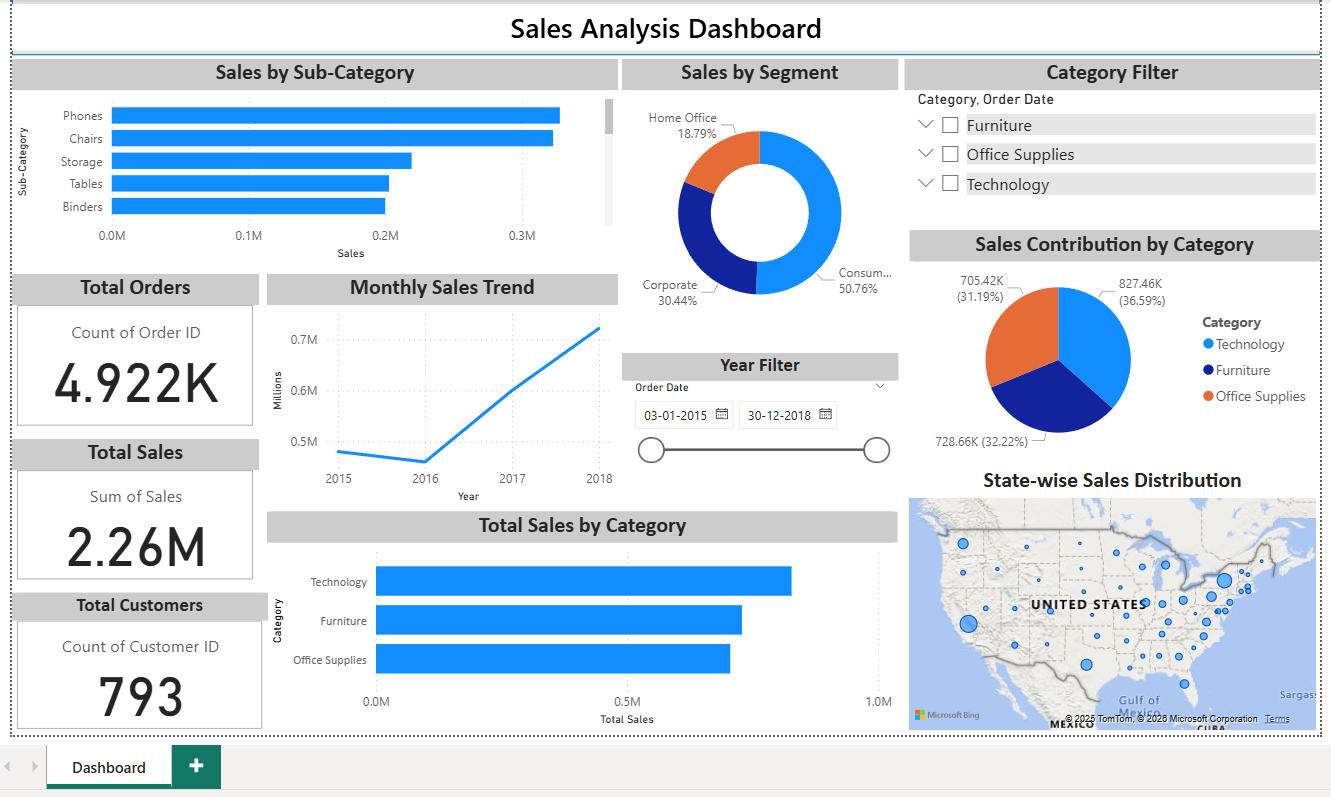

What the dashboard file says about the page in this screenshot:
{"tool":"powerbi","page":{"name":"Dashboard","canvas":[1280,720],"ordinal":0},"visuals":[{"type":"cardVisual","title":"Total Sales","fields":{"Data":["Sum(train.Sales)"]},"box":[0,430,241.4,142.9],"z":0},{"type":"cardVisual","title":"Total Orders","fields":{"Data":["Count(train.Order ID)"]},"box":[0,268.6,241.4,154.3],"z":1000},{"type":"clusteredBarChart","title":"Total Sales by Category","fields":{"Category":["train.Category"],"Y":["Sum(train.Sales)"]},"box":[250,501.4,617.1,214.3],"z":2000},{"type":"lineChart","title":"Monthly Sales Trend","fields":{"Category":["train.Order Date.Variation.Date Hierarchy.Year","train.Order Date.Variation.Date Hierarchy.Quarter","train.Order Date.Variation.Date Hierarchy.Month","train.Order Date.Variation.Date Hierarchy.Day"],"Y":["Sum(train.Sales)"]},"box":[250,268.6,342.9,228.6],"z":3000},{"type":"clusteredBarChart","title":"Sales by Sub-Category","fields":{"Category":["train.Sub-Category"],"Y":["Sum(train.Sales)"]},"box":[0,58.6,592.9,201.4],"z":4000},{"type":"map","title":"State-wise Sales Distribution","fields":{"Category":["train.State"],"Size":["Sum(train.Sales)"]},"box":[872.9,457.1,407.1,262.9],"z":5000},{"type":"pieChart","title":"Sales Contribution by Category","fields":{"Category":["train.Category"],"Y":["Sum(train.Sales)"]},"box":[878.6,225.7,401.4,228.6],"z":6000},{"type":"donutChart","title":"Sales by Segment","fields":{"Category":["train.Segment"],"Y":["Sum(train.Sales)"]},"box":[597.1,58.6,270,275.7],"z":7000},{"type":"slicer","title":"Category Filter","fields":{"Values":["train.Category","train.Order Date"]},"box":[872.9,58.6,407.1,161.4],"z":8000},{"type":"slicer","title":"Year Filter","fields":{"Values":["train.Order Date"]},"box":[597.1,345.7,270,137.1],"z":9000},{"type":"cardVisual","title":"Total Customers","fields":{"Data":["Count(train.Customer ID)"]},"box":[0,581.4,250,138.6],"z":10000},{"type":"shape","box":[0,0,1280,55],"z":11000},{"type":"textbox","box":[0,5,1280,45.8],"z":12000}]}

Visuals, with their boxes on the page's 1280x720 design canvas (x1, y1, x2, y2). These are canvas units, not pixel positions in the 1331x797 screenshot, which may show the page scaled, cropped or inside an application window:
"Total Sales" cardVisual: (left=0, top=430, right=241, bottom=573)
"Total Orders" cardVisual: (left=0, top=269, right=241, bottom=423)
"Total Sales by Category" clusteredBarChart: (left=250, top=501, right=867, bottom=716)
"Monthly Sales Trend" lineChart: (left=250, top=269, right=593, bottom=497)
"Sales by Sub-Category" clusteredBarChart: (left=0, top=59, right=593, bottom=260)
"State-wise Sales Distribution" map: (left=873, top=457, right=1280, bottom=720)
"Sales Contribution by Category" pieChart: (left=879, top=226, right=1280, bottom=454)
"Sales by Segment" donutChart: (left=597, top=59, right=867, bottom=334)
"Category Filter" slicer: (left=873, top=59, right=1280, bottom=220)
"Year Filter" slicer: (left=597, top=346, right=867, bottom=483)
"Total Customers" cardVisual: (left=0, top=581, right=250, bottom=720)
shape: (left=0, top=0, right=1280, bottom=55)
textbox: (left=0, top=5, right=1280, bottom=51)
